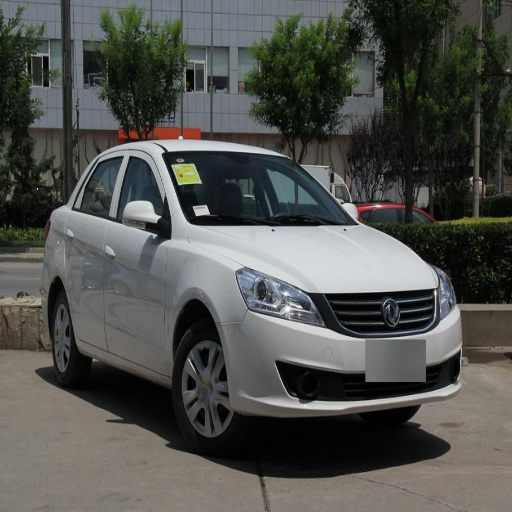front_bumper: (222, 287, 460, 415)
front_right_door: (104, 152, 172, 371)
front_right_light: (236, 267, 322, 325)
